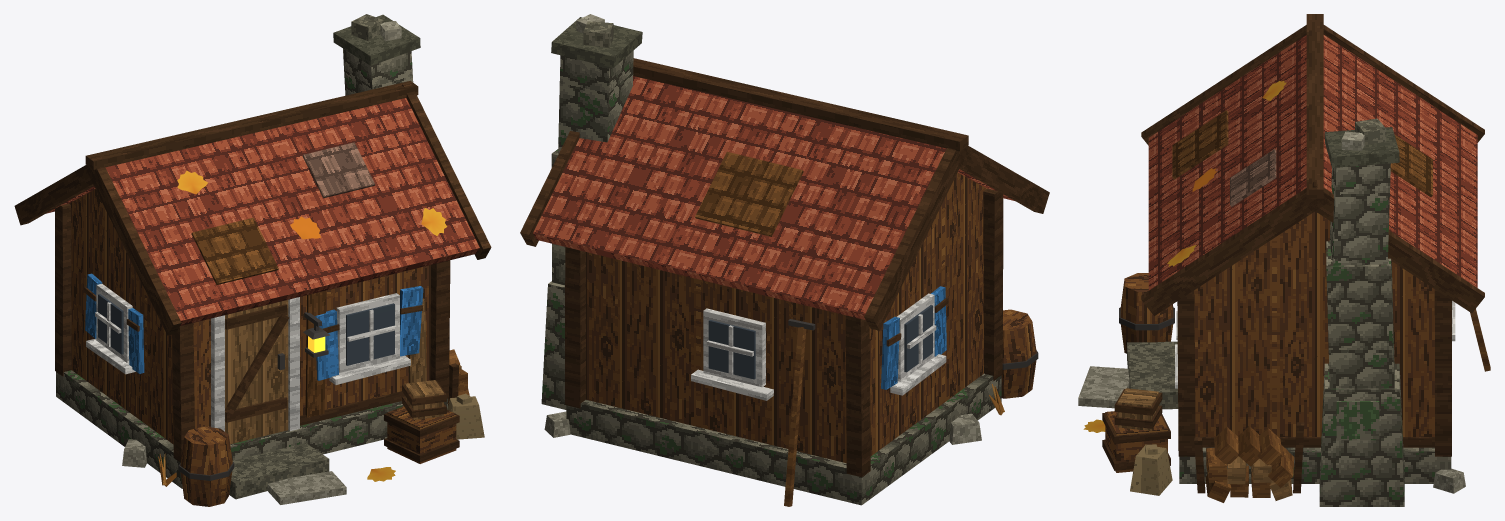
Rendered from home_1.glb.
The picture shows the model from 3 angles, left to right: view 1: azimuth 30°, elevation 25°; view 2: azimuth 150°, elevation 25°; view 3: azimuth 270°, elevation 25°; orthographic projection. The views are drawn at different scales.
Visible parts, largest first — view 1: home_1; view 2: home_1; view 3: home_1.
Part boxes in pixels (box(x1,y1,x2,y2)): home_1: box(14, 14, 491, 506); home_1: box(520, 14, 1049, 506); home_1: box(1078, 14, 1490, 506).
Size of the model in its own units: 4.96 by 4.73 by 4.84.
26 materials, 19 textured.
